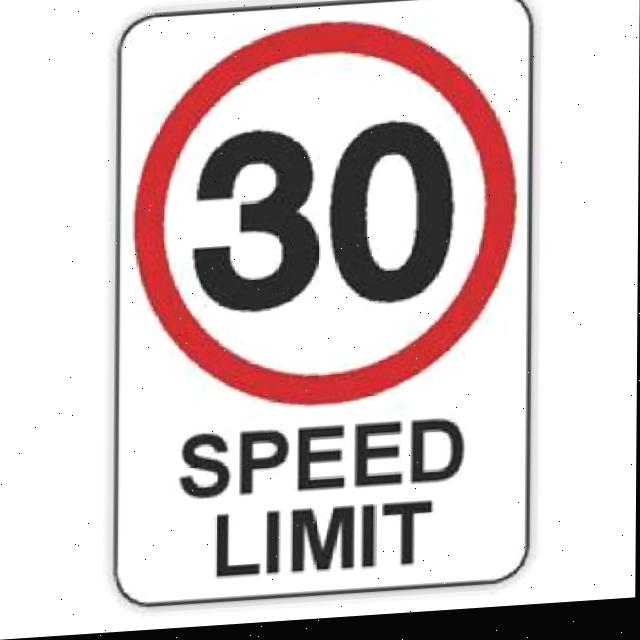Speed limit 30: (129, 14, 527, 424)
